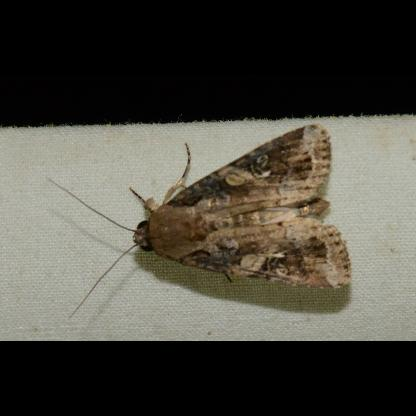Fall Armyworm Moth: (46, 122, 354, 320)
